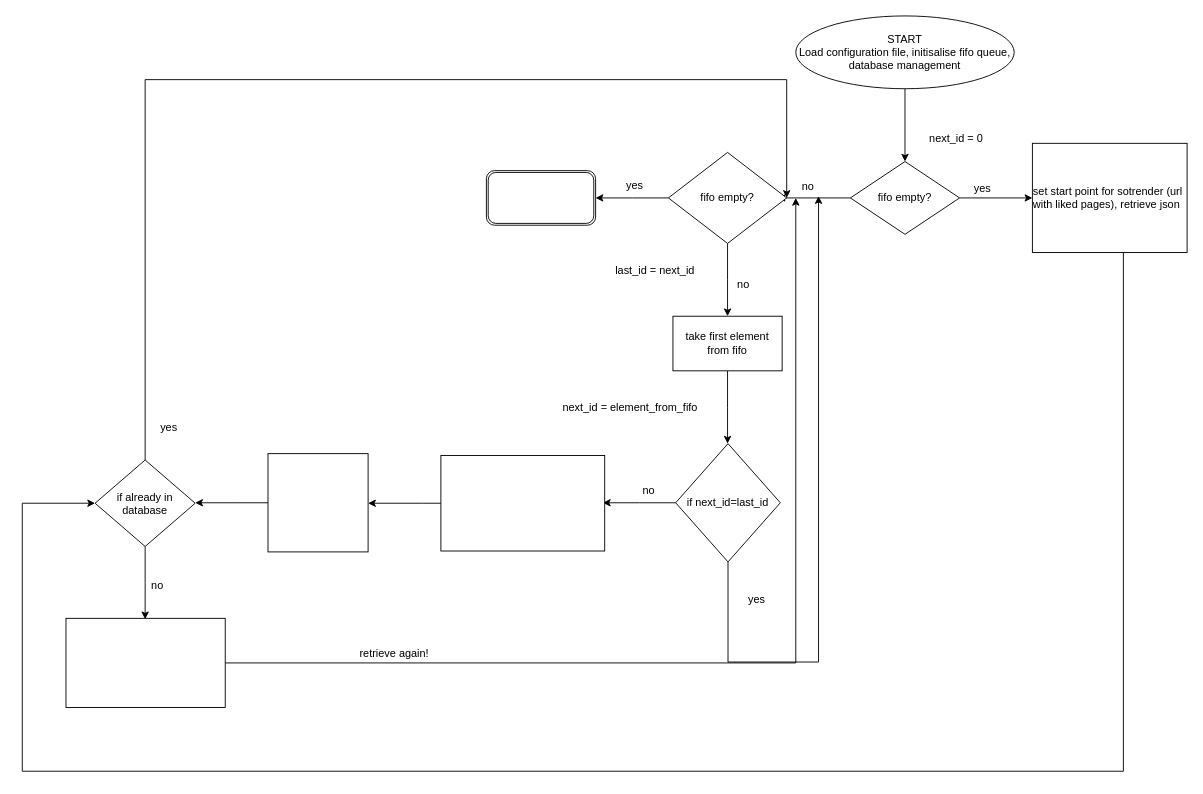
The diagram is 1203 pixels wide and 794 high, and some of its shapes have lost their labels. The centre of each missing label's shape, as x and y in pixels:
"for all pages in loaded json" belongs at (x=317, y=502).
"Job done, app mission completed" belongs at (x=540, y=197).
"put all liked pages (id) to fifo, guess language and insert into database" belongs at (x=145, y=662).
"remove first element from fifo, compose url, retrieve json" belongs at (x=522, y=503).
